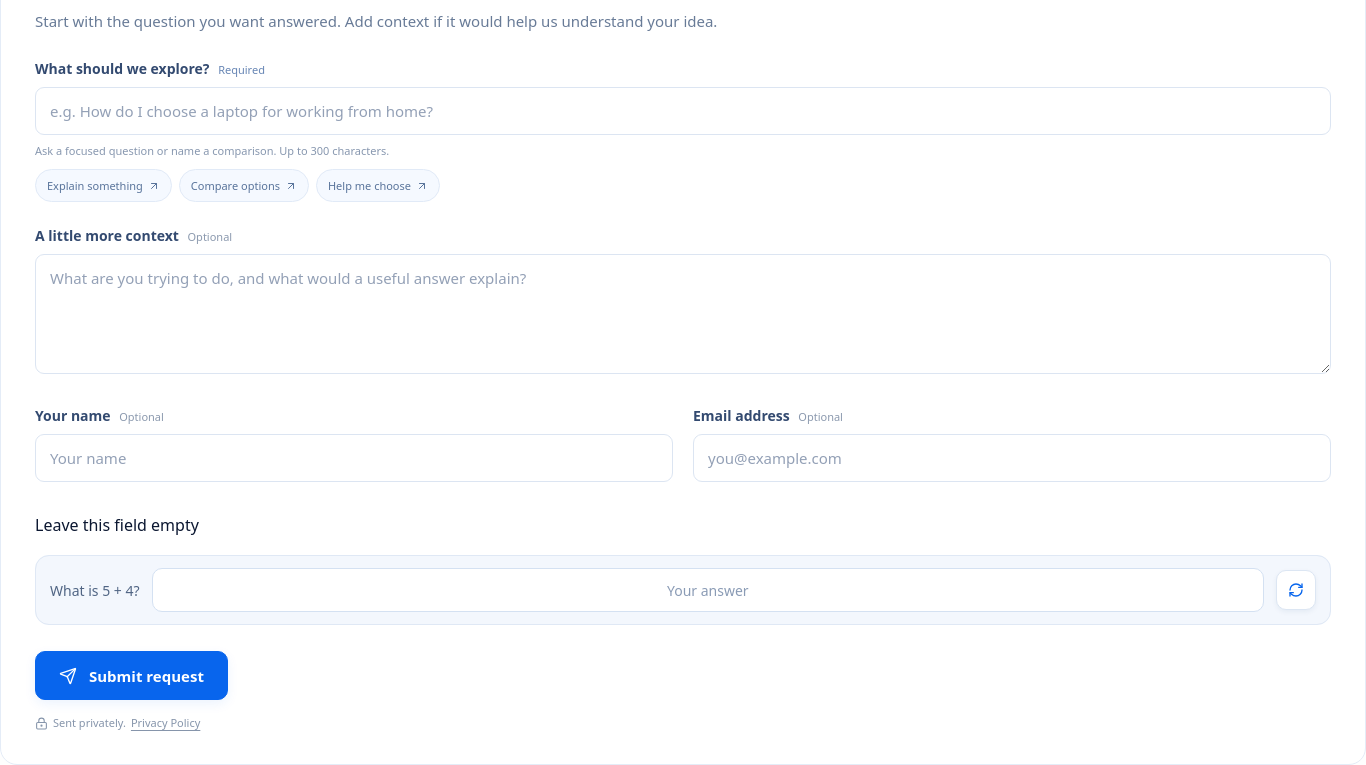
it: topic suggestions › validates before making a request
(page scrolled)
Click the button "Submit request" at (131, 676), box 35,652 -> 228,700
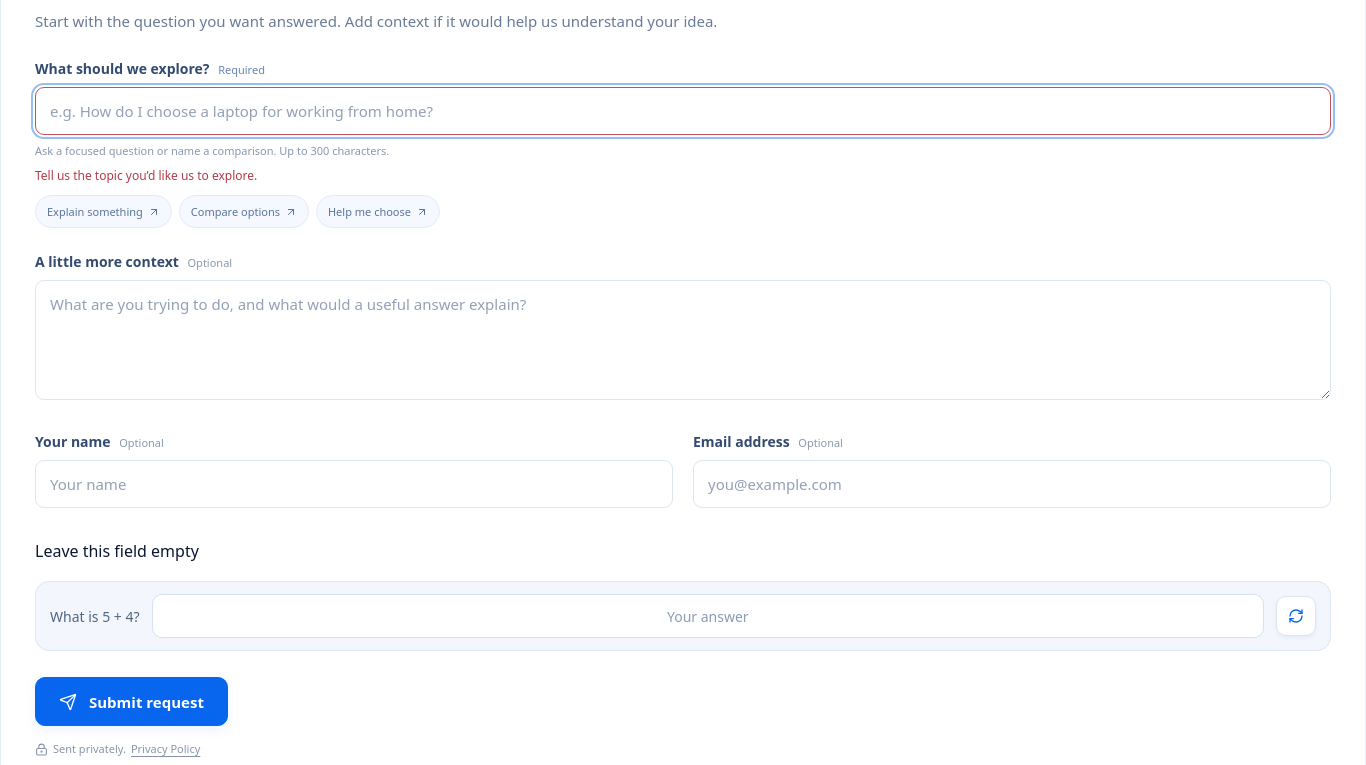
Result: the text "Tell us the topic you’d like us to explore." is shown at 35,168 -> 257,184
